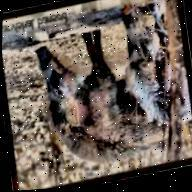boar: (26, 11, 153, 176), (104, 0, 192, 141)
